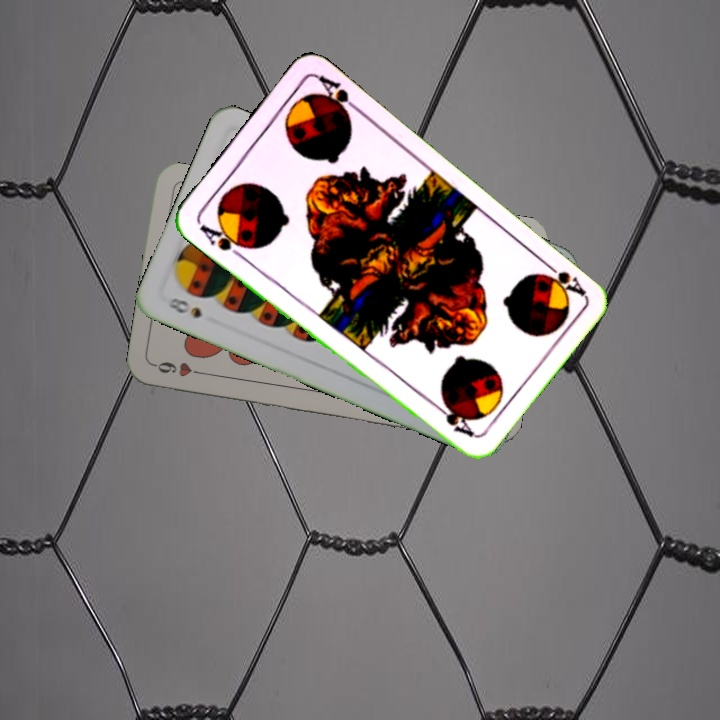H9: (150, 357, 209, 380)
S8: (164, 293, 205, 321)
SA: (195, 219, 251, 261), (537, 255, 589, 299)
